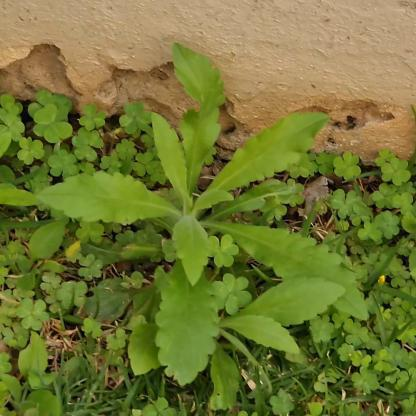Weeds: (33, 38, 372, 407)
